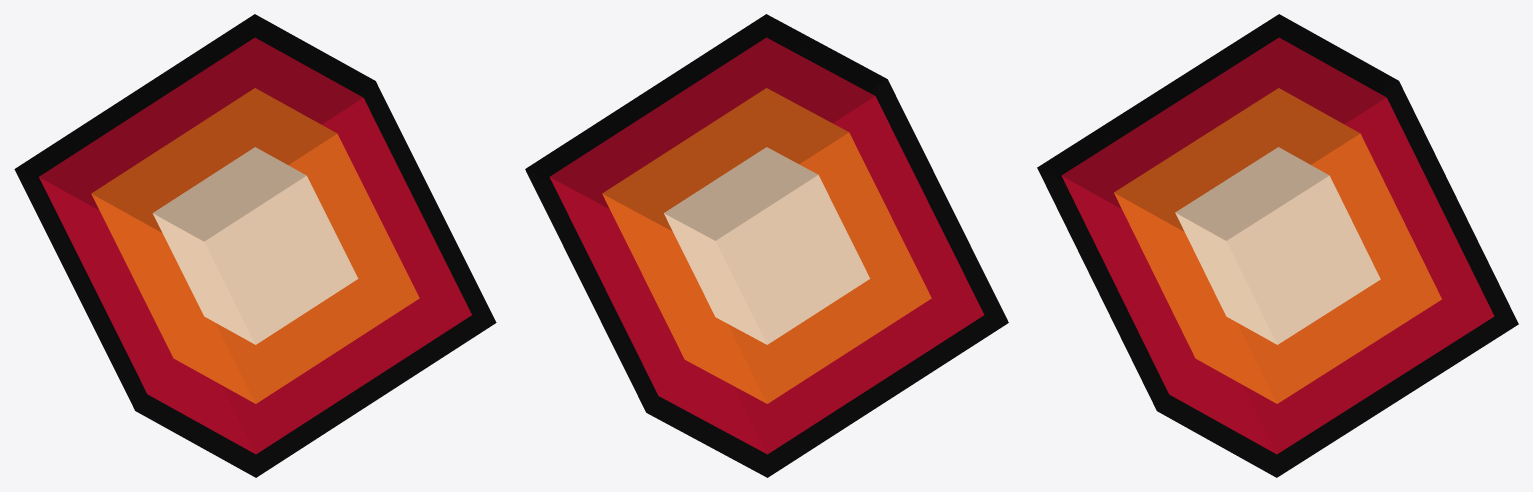
The model's file is savething.glb.
The picture shows the model from 3 angles, left to right: view 1: azimuth 30°, elevation 25°; view 2: azimuth 150°, elevation 25°; view 3: azimuth 270°, elevation 25°; orthographic projection.
Parts seen in each view (by area): view 1: Cube; view 2: Cube; view 3: Cube.
Boxes of the visible parts, x1,y1,x2,y2 form: Cube: (14, 14, 496, 477); Cube: (525, 14, 1008, 477); Cube: (1037, 14, 1518, 477).
Bounding box in the file's own units: 2.83 × 3.46 × 3.26.
Materials: 1 (1 with a texture image).
